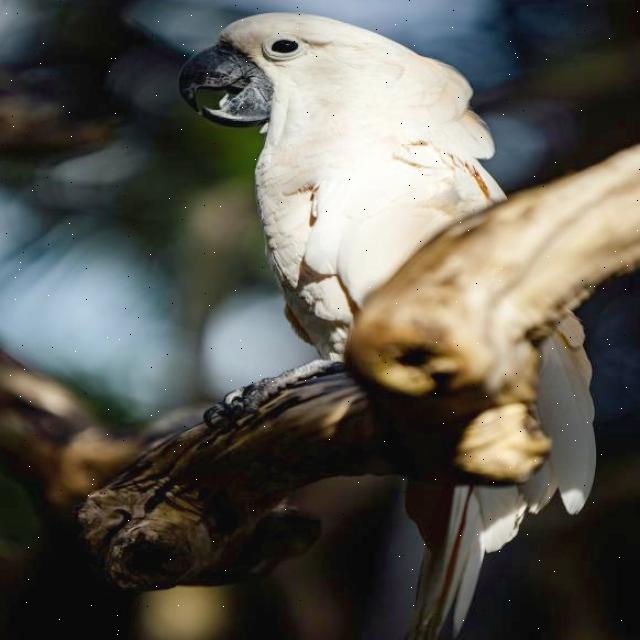Kakatua Putih: (158, 0, 614, 640)
